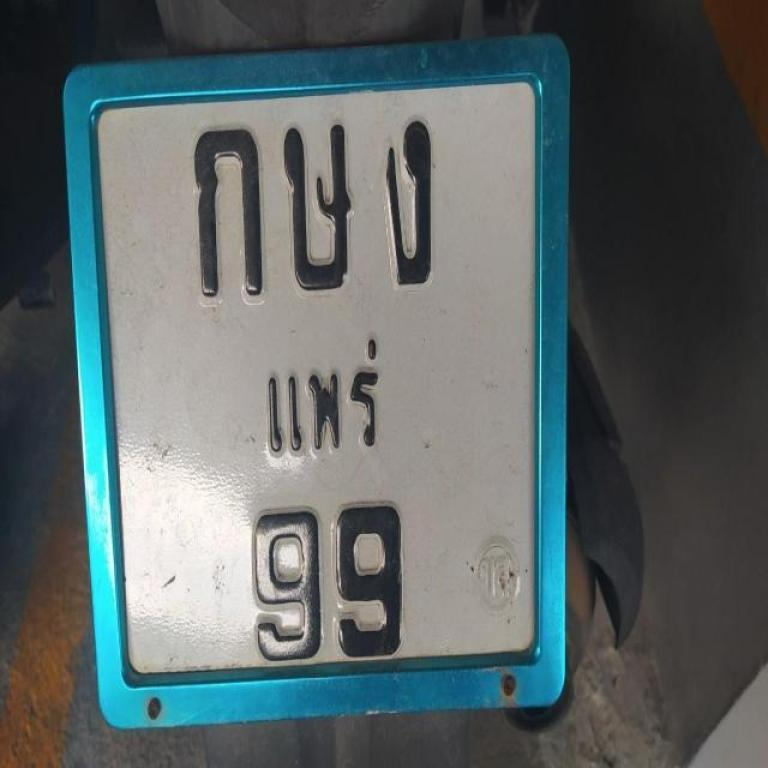license plate: (65, 38, 566, 725)
